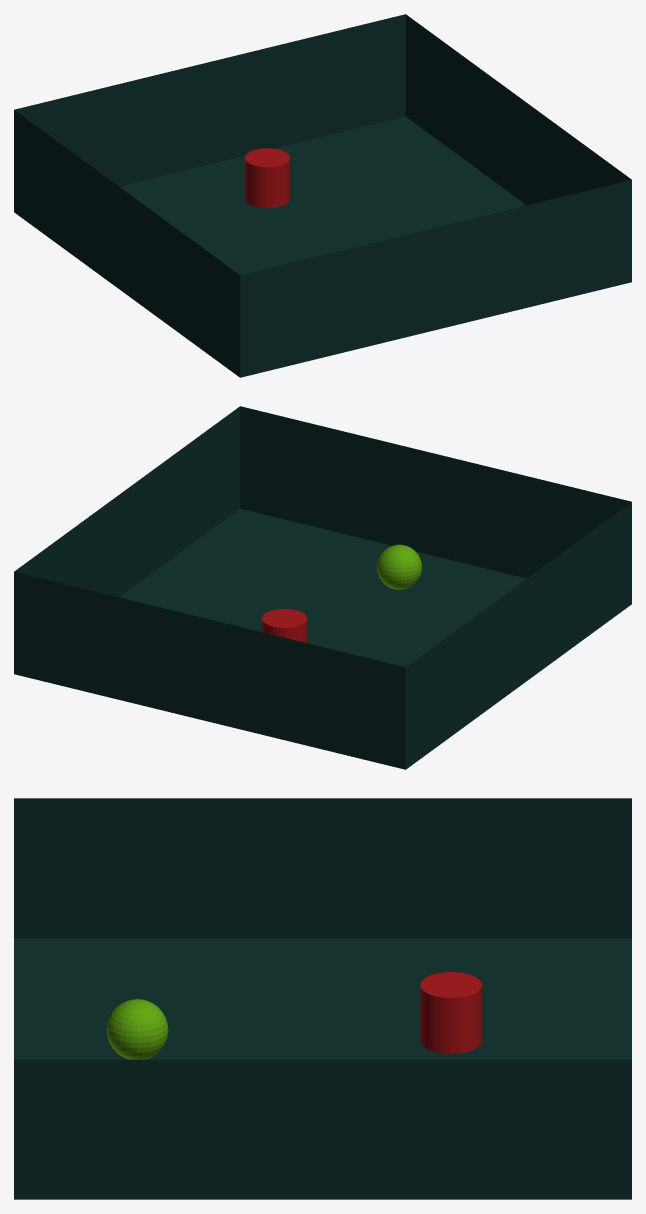
The model's file is maze.obj.
3 renders of one model, top to bottom at view 1: azimuth 30°, elevation 25°; view 2: azimuth 150°, elevation 25°; view 3: azimuth 270°, elevation 25°, orthographic. The views are drawn at different scales.
Visible parts, largest first — view 1: Cube, Cylinder; view 2: Cube, Sphere, Cylinder; view 3: Cube, Cylinder, Sphere.
Part boxes in pixels (x1,y1,x2,y2): Cube: (14, 14, 631, 377); Cylinder: (245, 148, 289, 208); Cube: (14, 406, 631, 769); Sphere: (377, 544, 421, 589); Cylinder: (262, 609, 307, 642); Cube: (14, 798, 631, 1199); Cylinder: (420, 972, 481, 1053); Sphere: (106, 999, 168, 1059).
Bounding box in the file's own units: 4 × 1 × 4.
